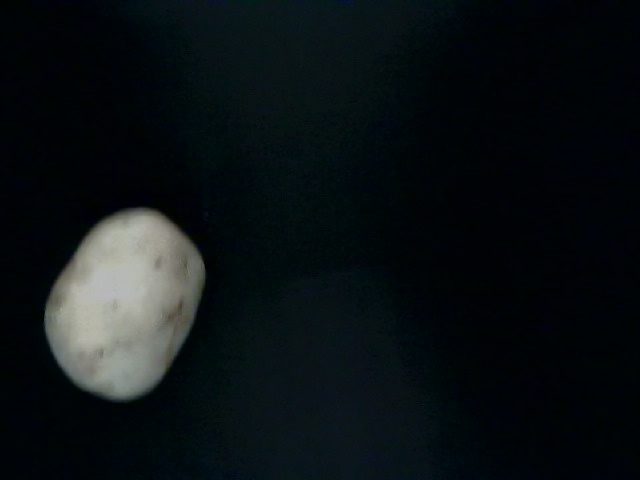QTLJ: (13, 257, 250, 480)
